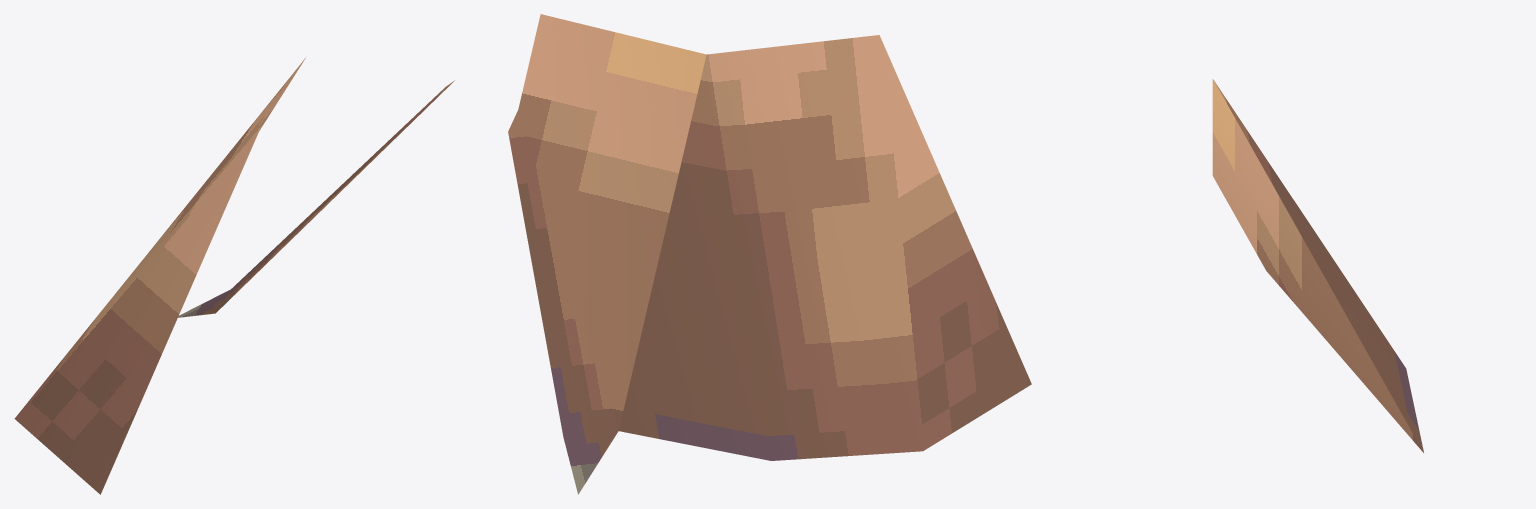
3 views of the same model, side by side, from view 1: azimuth 30°, elevation 25°; view 2: azimuth 150°, elevation 25°; view 3: azimuth 270°, elevation 25° (orthographic). The views are drawn at different scales.
Bounding box in the file's own units: 1.29 × 0.9971 × 1.
2 materials, 2 textured.
